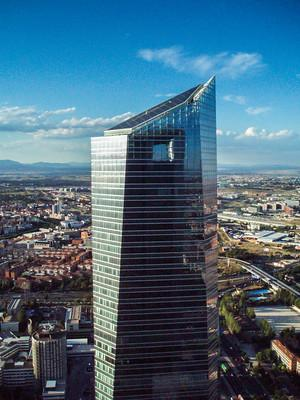building: (82, 72, 225, 400)
